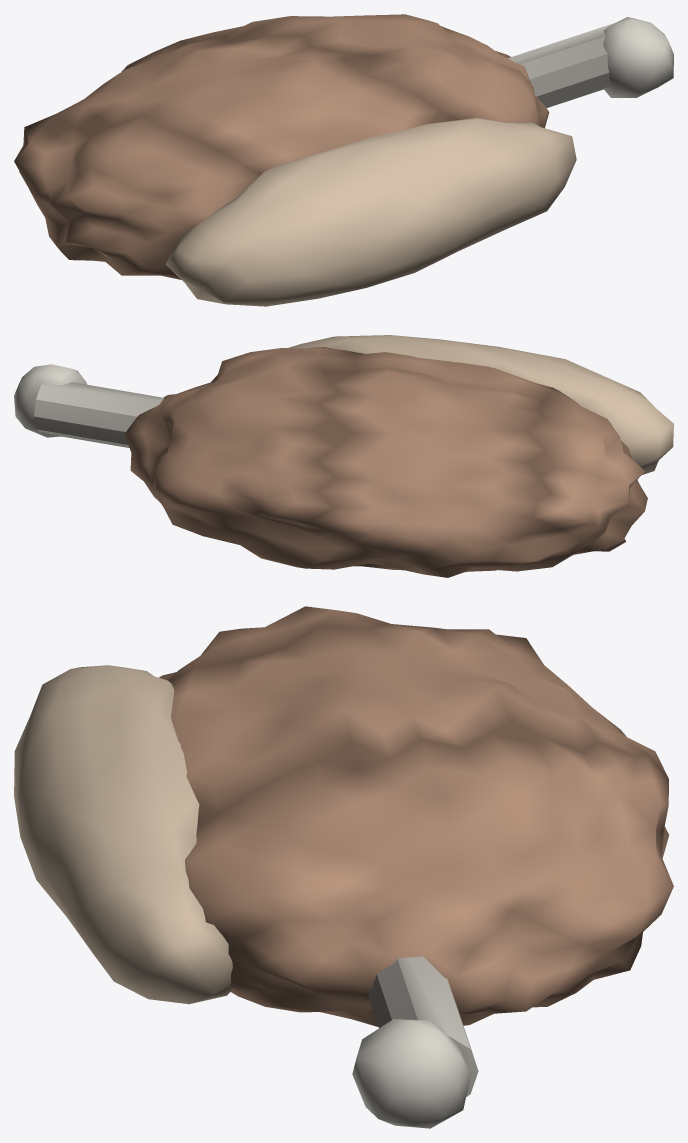
Rendered from cooked-pork.glb.
The picture shows the model from 3 angles, top to bottom: view 1: azimuth 30°, elevation 25°; view 2: azimuth 150°, elevation 25°; view 3: azimuth 270°, elevation 25°; orthographic projection. The views are drawn at different scales.
Parts seen in each view (by area): view 1: Body_lod0; view 2: Body_lod0; view 3: Body_lod0.
Boxes of the visible parts, box(x1,y1,x2,y2) form: Body_lod0: box(14, 14, 673, 306); Body_lod0: box(14, 335, 673, 577); Body_lod0: box(14, 606, 673, 1128).
Size of what is drawn, in the model's own units: 0.176 by 0.0361 by 0.1136.
